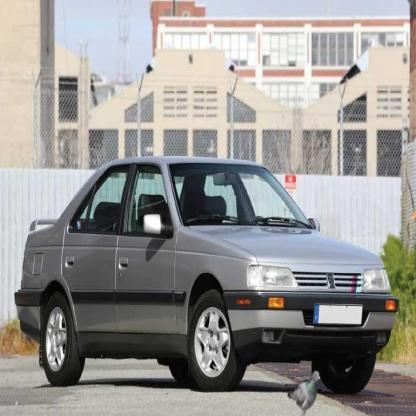Car: (11, 150, 396, 399)
